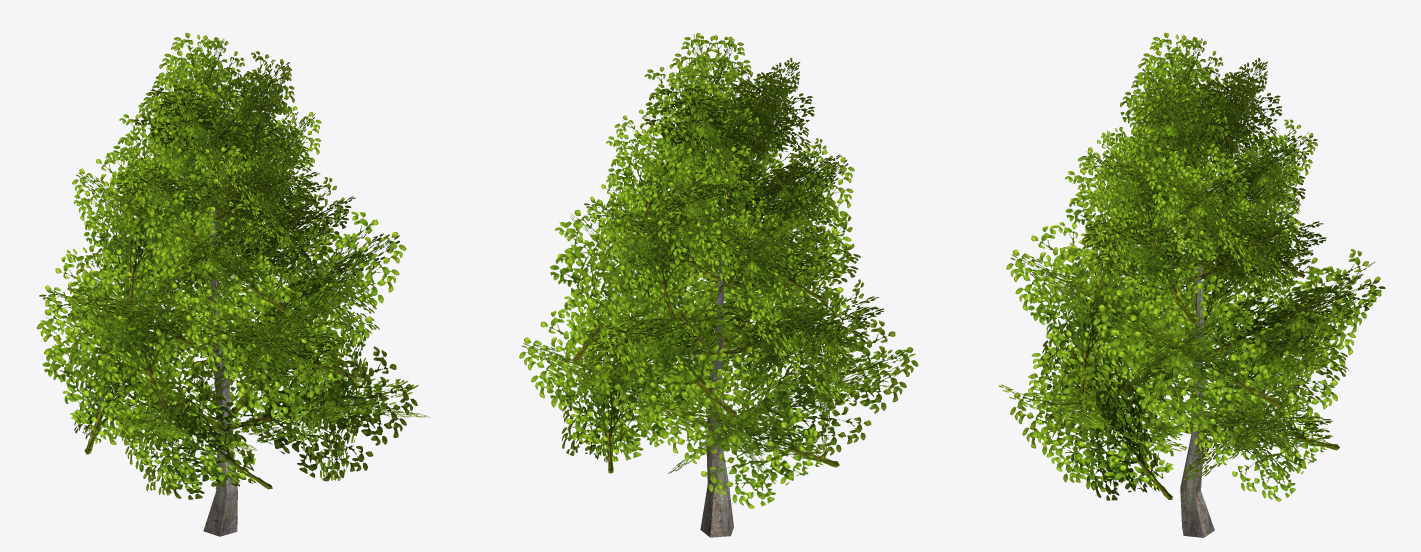
File: tree_e.FBX
3 renders of one model, left to right at view 1: azimuth 30°, elevation 25°; view 2: azimuth 150°, elevation 25°; view 3: azimuth 270°, elevation 25°, orthographic.
Visible parts, largest first — view 1: tree_e; view 2: tree_e; view 3: tree_e.
Part boxes in pixels (x1,y1,x2,y2): tree_e: (36, 33, 429, 536); tree_e: (519, 33, 918, 537); tree_e: (998, 32, 1385, 537).
Bounding box in the file's own units: 8.88 × 11.25 × 8.88.
2 materials, 2 textured.
